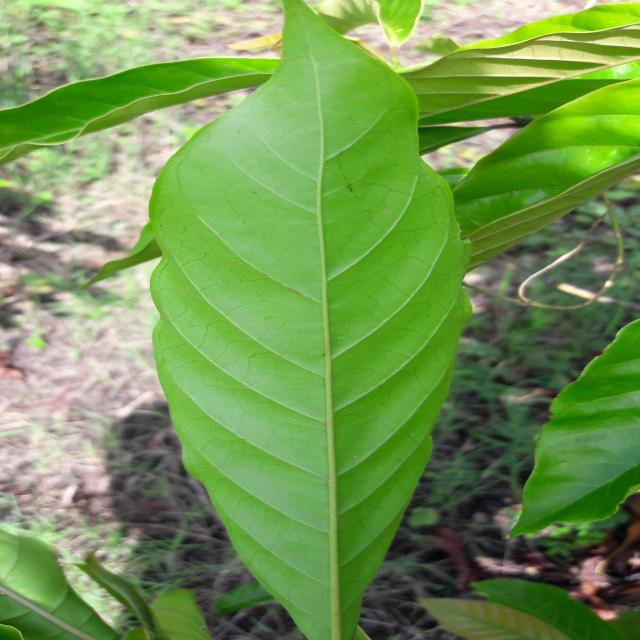Sanas: (118, 4, 474, 640)
